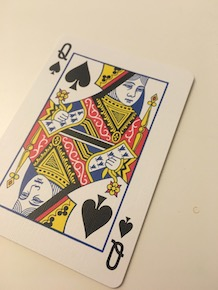QueenOfSpades: (1, 32, 199, 290)
